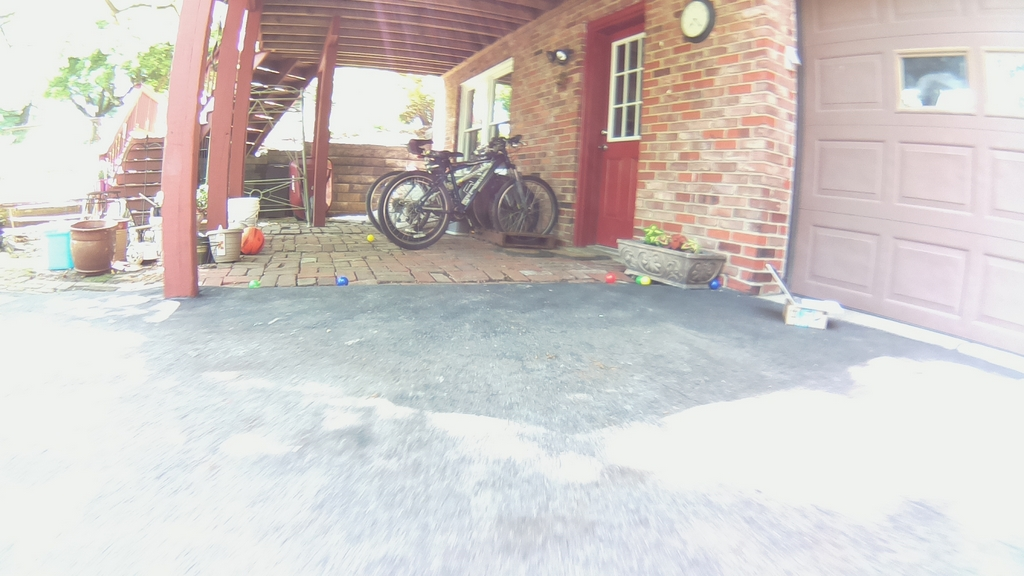ball: (606, 272, 616, 283)
